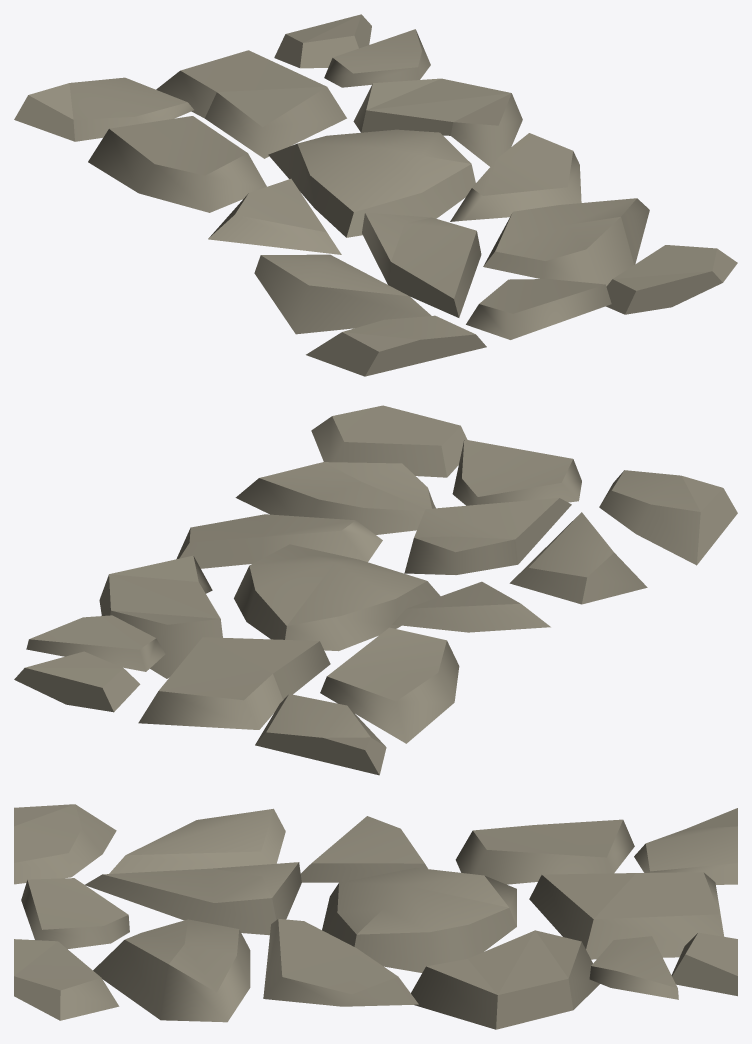
The model's file is Stone_Path_V.glb.
The picture shows the model from 3 angles, top to bottom: view 1: azimuth 30°, elevation 25°; view 2: azimuth 150°, elevation 25°; view 3: azimuth 270°, elevation 25°; orthographic projection. The views are drawn at different scales.
Parts seen in each view (by area): view 1: Stone_Path_V; view 2: Stone_Path_V; view 3: Stone_Path_V.
Boxes of the visible parts, x1,y1,x2,y2 form: Stone_Path_V: (14,14,737,376); Stone_Path_V: (14,405,737,775); Stone_Path_V: (14,804,737,1029).
Size of the model in its own units: 0.9779 by 0.1501 by 1.47.
